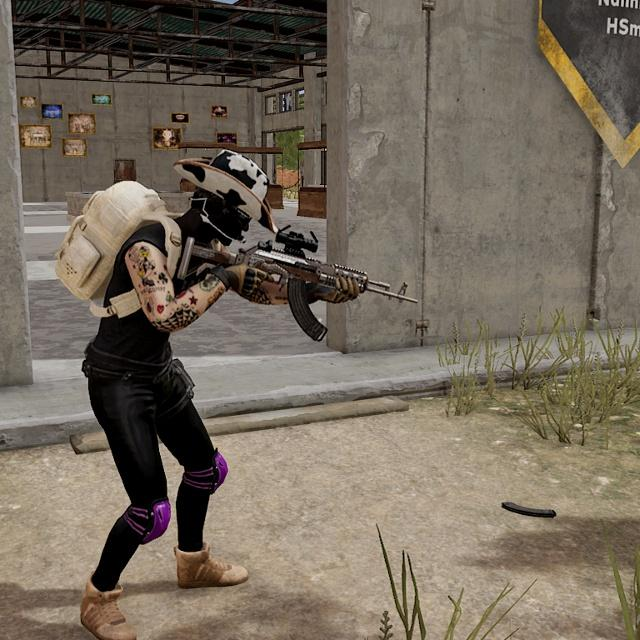head: (183, 143, 270, 258)
people: (55, 139, 292, 640)
